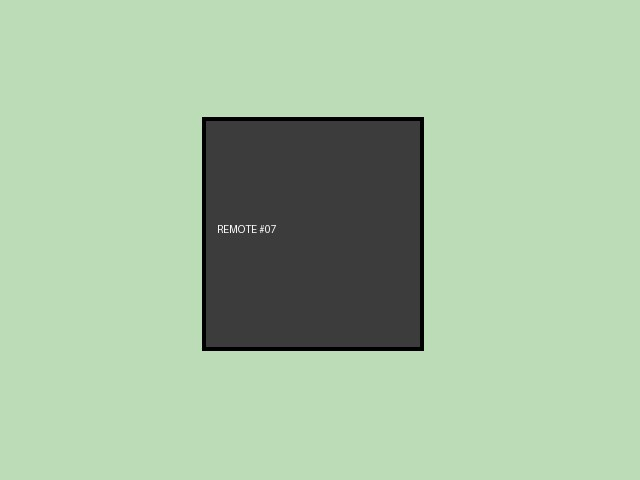remote: (202, 117, 423, 350)
